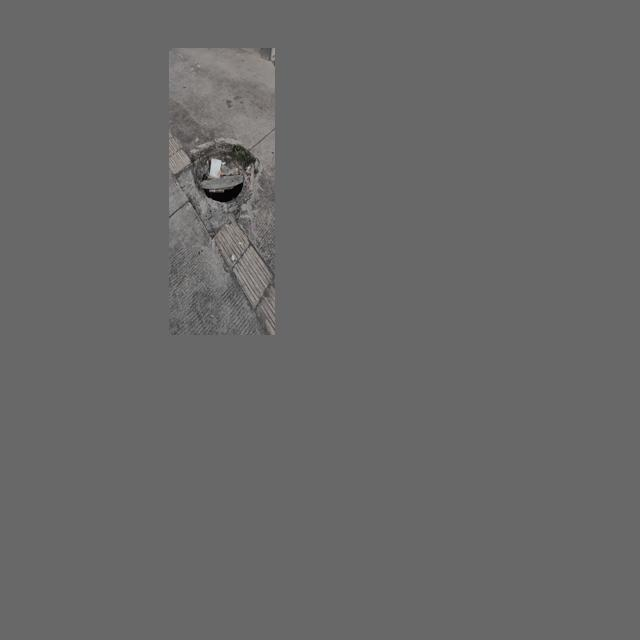circle: (179, 135, 266, 232)
